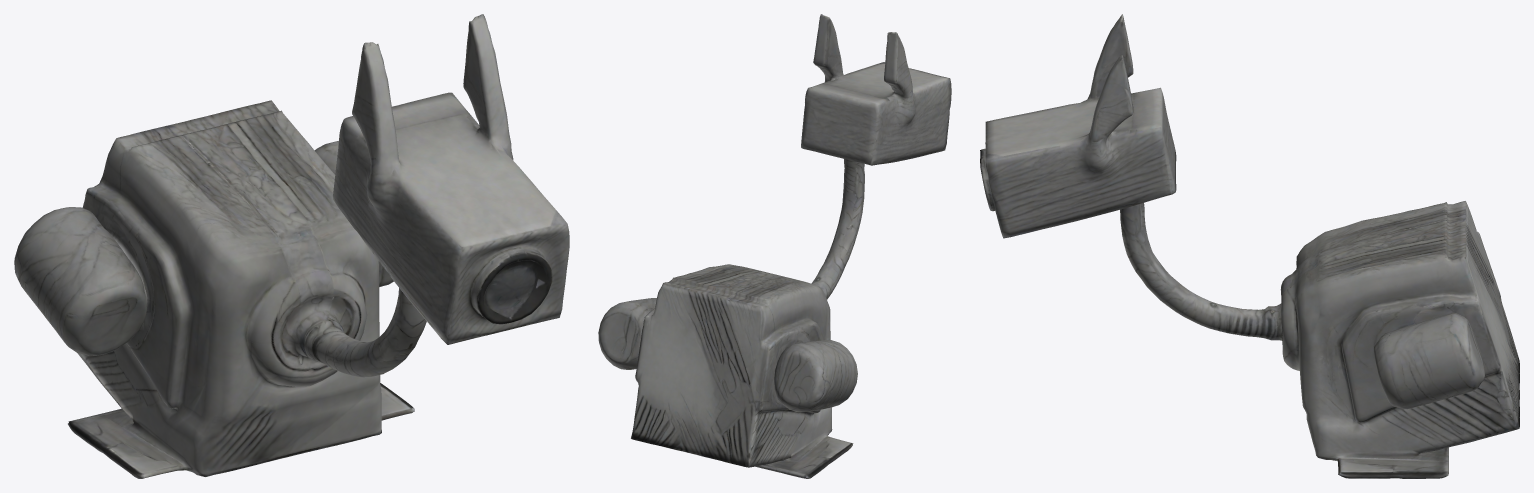
Rendered from caballo_01.glb.
3 views of the same model, side by side, from view 1: azimuth 30°, elevation 25°; view 2: azimuth 150°, elevation 25°; view 3: azimuth 270°, elevation 25° (orthographic). The views are drawn at different scales.
Size of the model in its own units: 1.14 by 1.62 by 2.
1 material, 1 textured.
